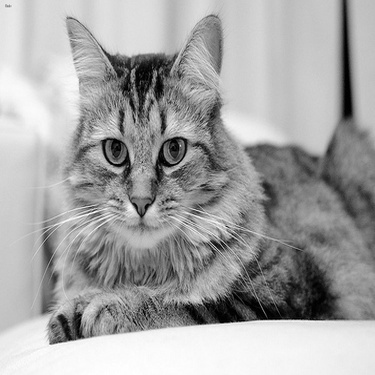cat: (57, 12, 374, 316)
